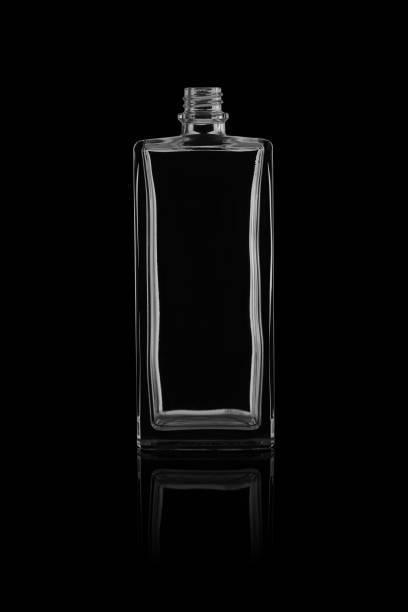bottle-glass: (128, 82, 281, 464)
